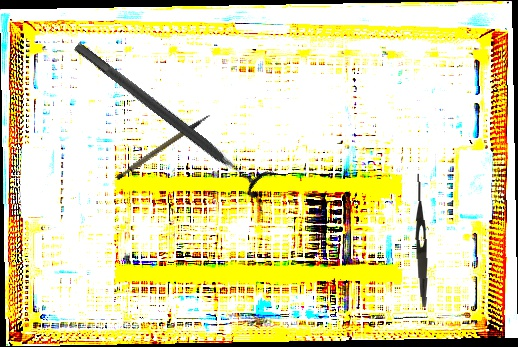Dressing Forceps: (411, 171, 431, 308)
Fixation Ring: (65, 31, 276, 202)
Scalpel Handle: (109, 113, 219, 182)
